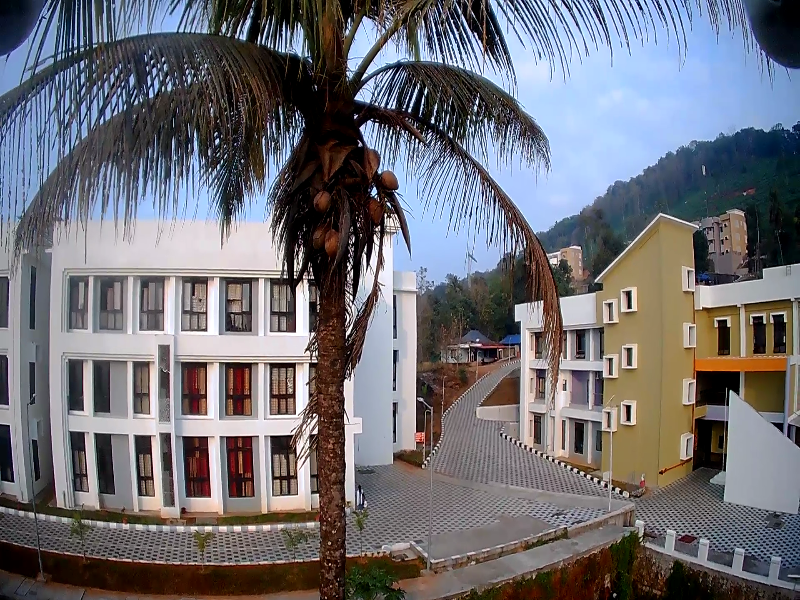coconut: (377, 172, 396, 195), (310, 187, 328, 211), (324, 225, 340, 249), (308, 229, 324, 247), (362, 200, 374, 220)
